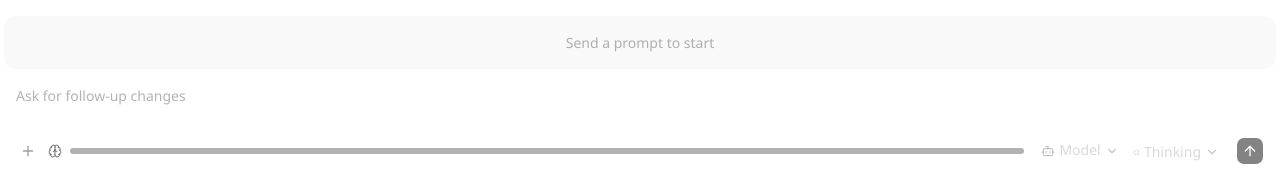
Test: ChatStream › typing @ opens the picker with the agent rows (@ badge)
Type "@" into the text box at (640,106), box [16,85,1264,127]
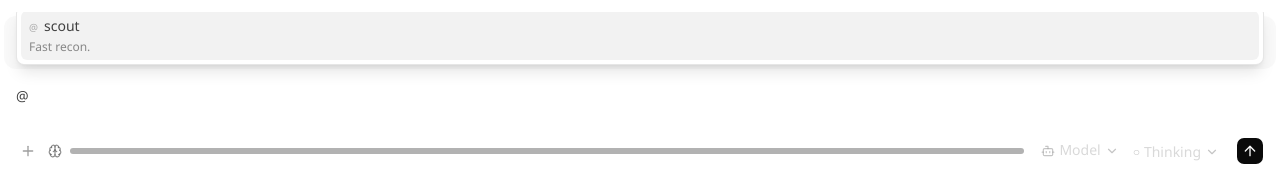
Now the text "@" is shown, box [29,20,38,35]
